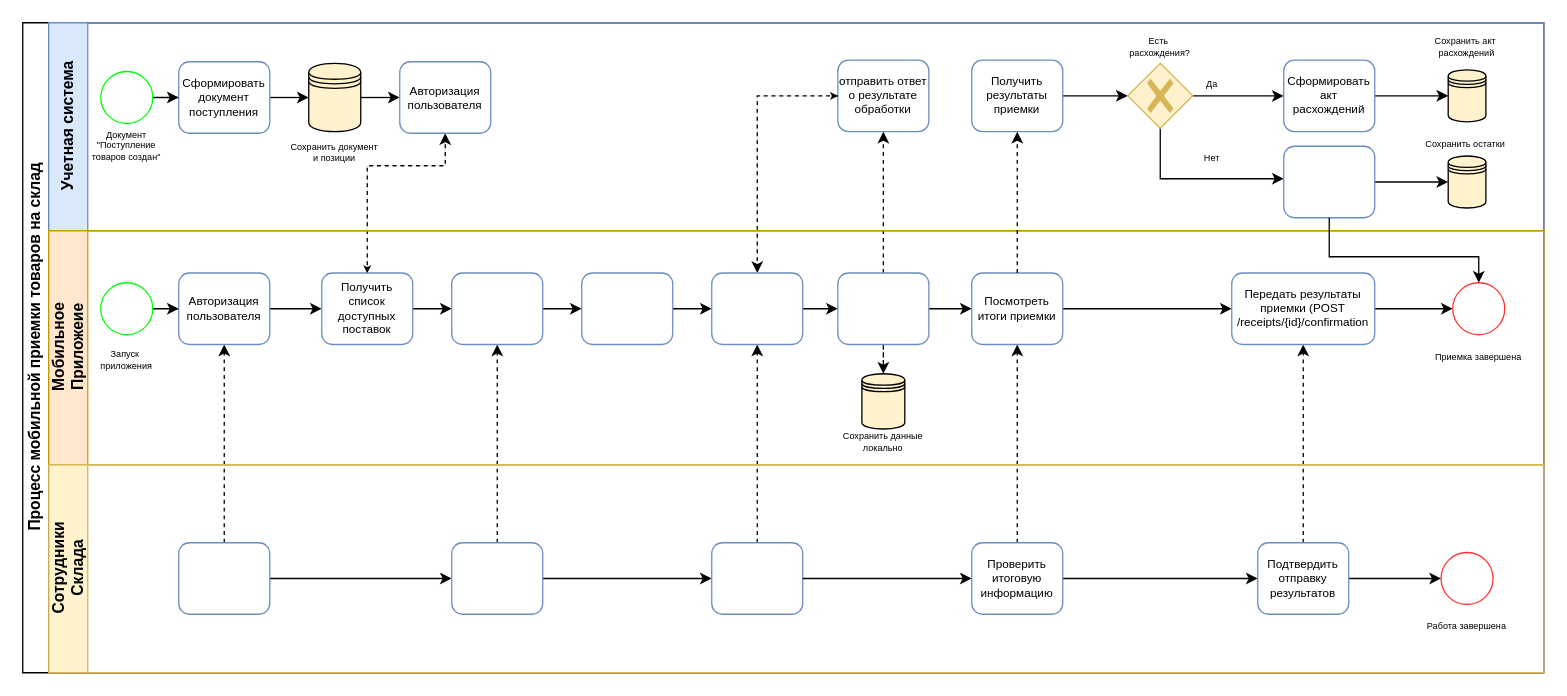
Some shapes in this 1567 by 696 pixel diagram are drawn without their labels. Each missing label, with the centre of its shape:
Войти в приложение: the point at 223,577
Выбрать поставку: the point at 496,308
Выбрать поставку из списка: the point at 496,577
Выполнить сканирование товаров: the point at 756,577
Запросить состав поставки (GET /receipts/{id}): the point at 626,308
Обновить складские остатки: the point at 1328,181
Получить состав поставки: the point at 756,308
Сканирование товаров и ввод количества: the point at 883,308
